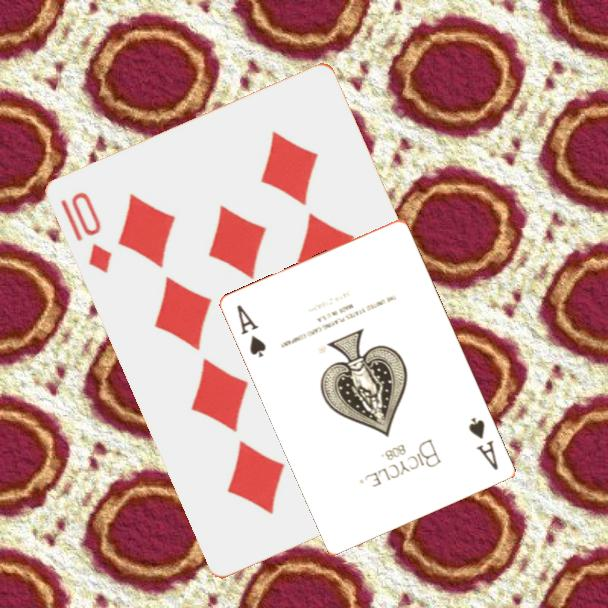d10: (57, 188, 116, 277)
s01: (465, 414, 502, 473), (233, 301, 269, 360)
